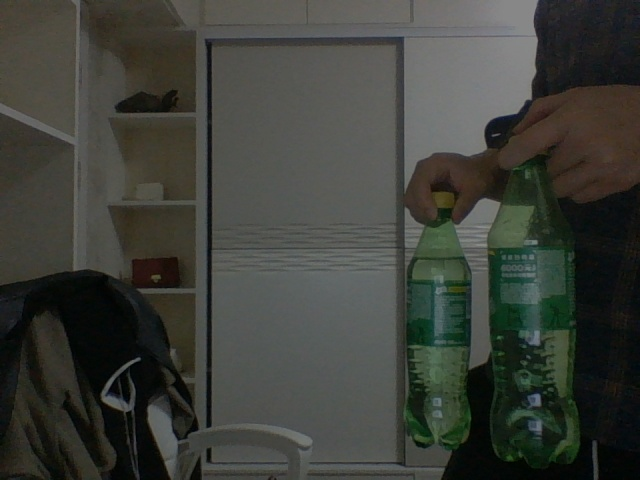Sprite: (488, 157, 581, 467), (404, 190, 473, 449)
